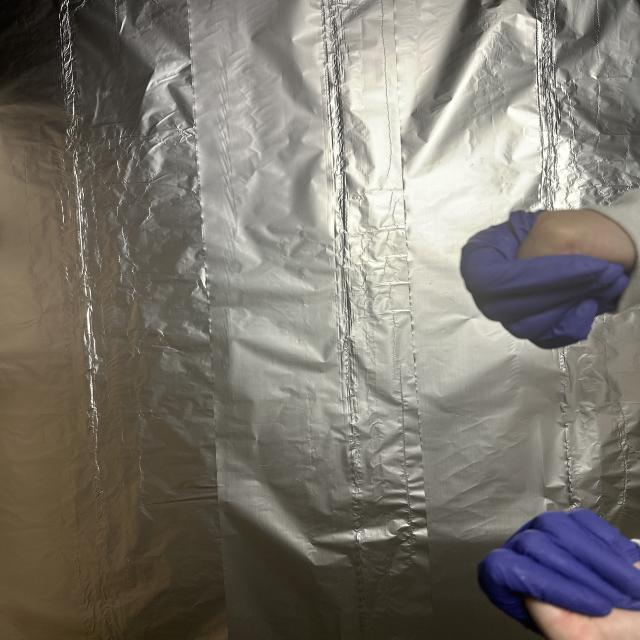glove_partial: (455, 204, 640, 352), (474, 503, 640, 640)
